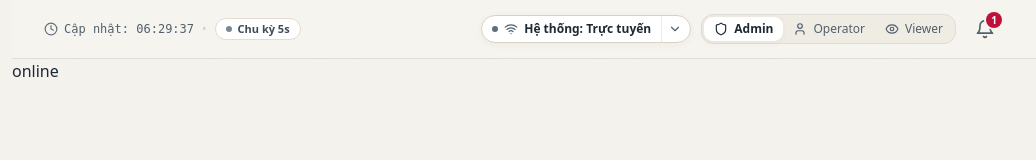
Test: Adversarial Verification: Safety Invariants & Boundary Conditions › Boundary Condition 2: Online / Offline Network Status Reactivity › STRESS TEST: Rapid alternating toggles remain consistent and deterministic
The image size is (1036, 160).
Earlier steps of the test are not shown.
Click the button with test id "connection-status-btn": x=572, y=29 [482,17,661,41]
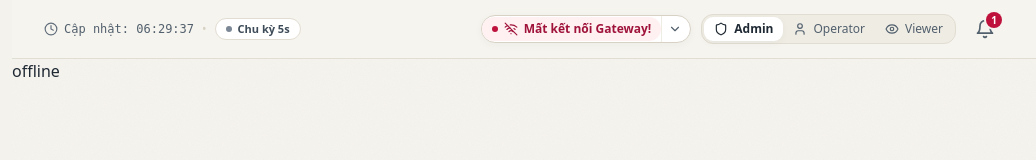
Click the button with test id "connection-status-btn": x=571, y=29 [482,17,661,41]
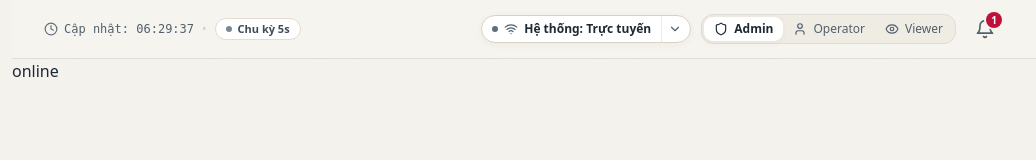
Click the button with test id "connection-status-btn": x=572, y=29 [482,17,661,41]
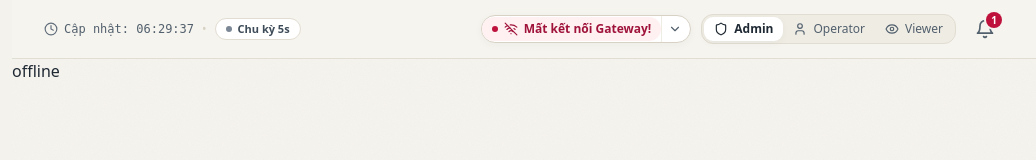
Click the button with test id "connection-status-btn": x=571, y=29 [482,17,661,41]
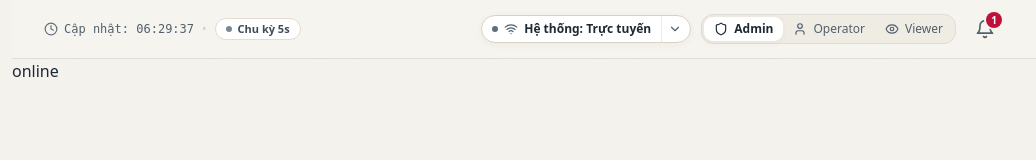
Click the button with test id "connection-status-btn": x=572, y=29 [482,17,661,41]
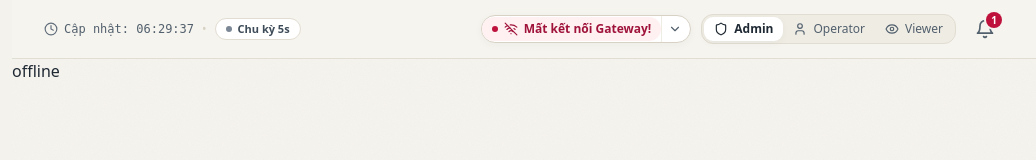
Expected: the text "Mất kết nối Gateway!" is shown, [524,21,651,37]
Expected: the text with test id "context-status" reads "offline", [12,60,60,82]
Click the button with test id "connection-status-btn": x=571, y=29 [482,17,661,41]
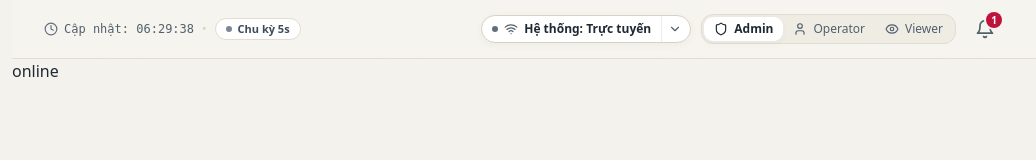
Expected: the text "Hệ thống: Trực tuyến" is shown, [524,21,651,37]
Expected: the text with test id "context-status" reads "online", [12,60,59,82]
